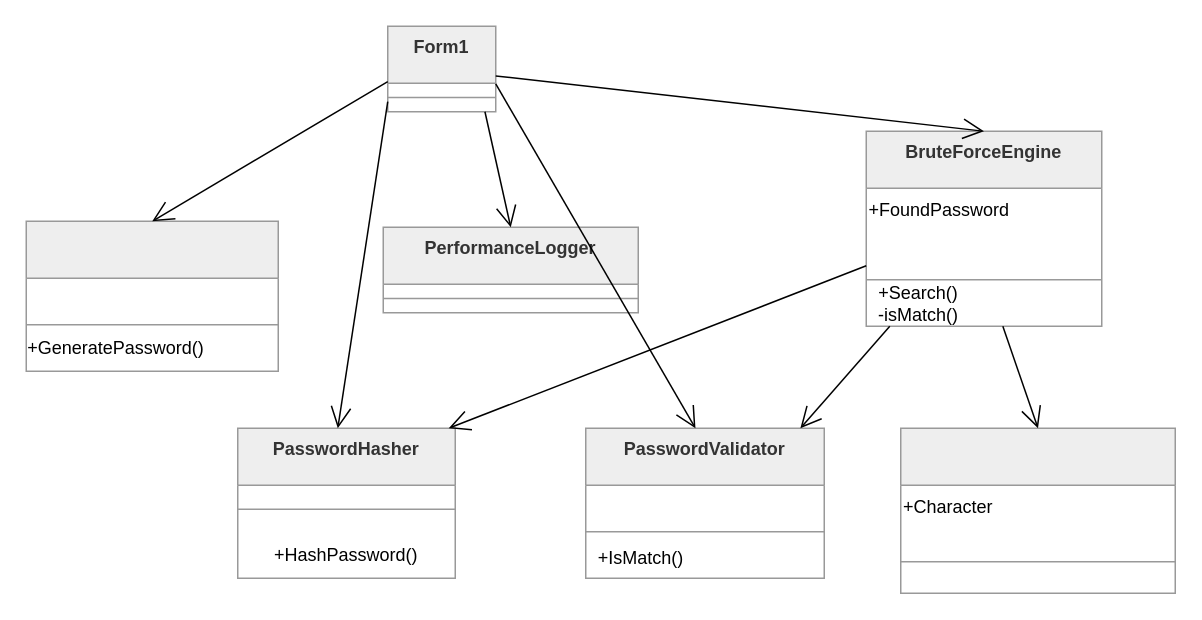
Image size: 1202x620. Some labels were removed from this diagram. Each missing label, with the box of its shape:
BruteForceGenerator: (899, 427, 1175, 593)
PasswordGenerator: (25, 220, 278, 371)
